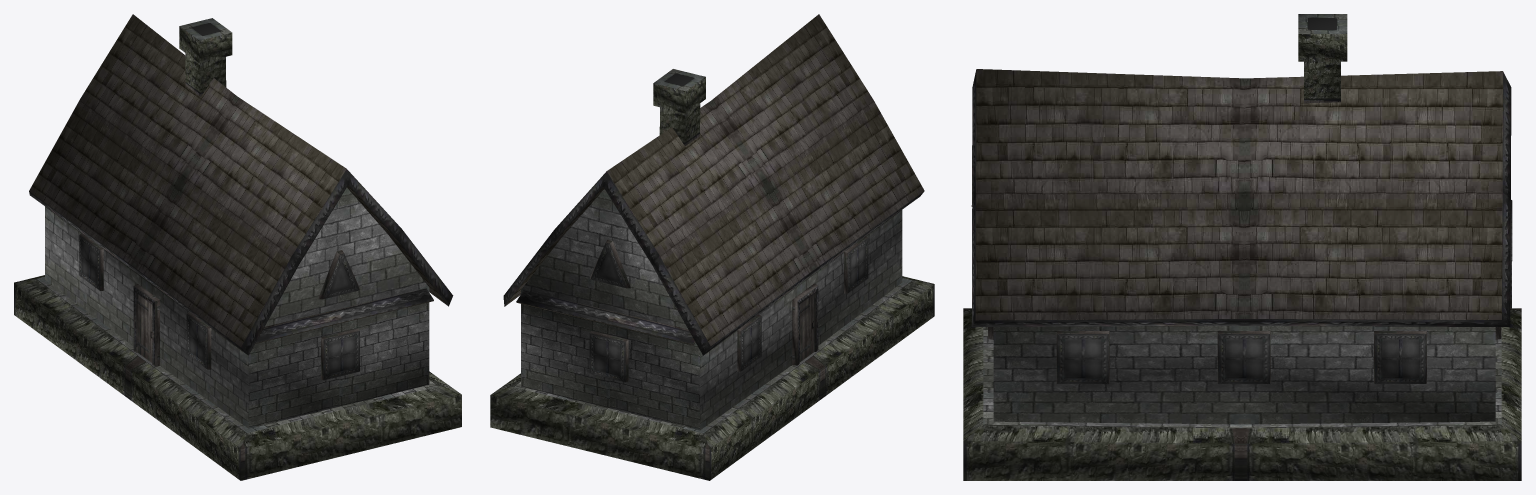
File: house2-03.obj
3 views of the same model, side by side, from view 1: azimuth 30°, elevation 25°; view 2: azimuth 150°, elevation 25°; view 3: azimuth 270°, elevation 25° (orthographic). The views are drawn at different scales.
Size of the model in its own units: 7.39 by 10.14 by 13.11.
1 material, 1 textured.
